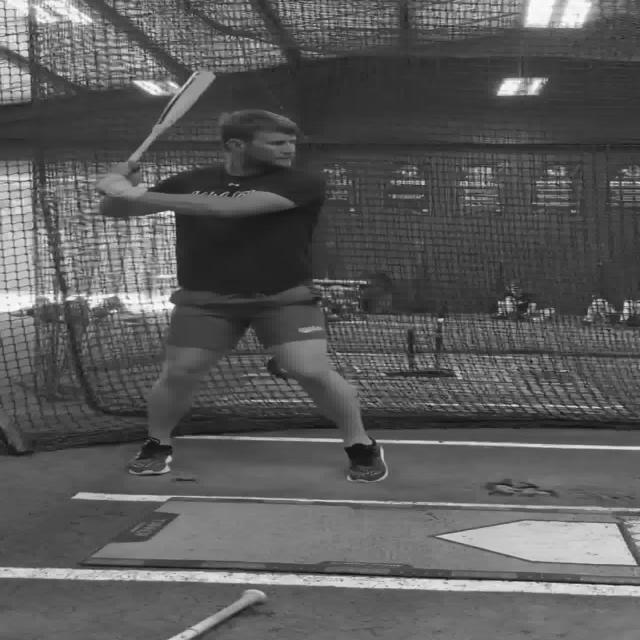base: (434, 518, 636, 570)
baseball_glove: (309, 278, 369, 322)
bat: (95, 68, 216, 196), (167, 588, 267, 640)
shoe: (342, 437, 388, 482), (125, 436, 173, 474)
